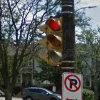Traffic light: (37, 13, 80, 76)
